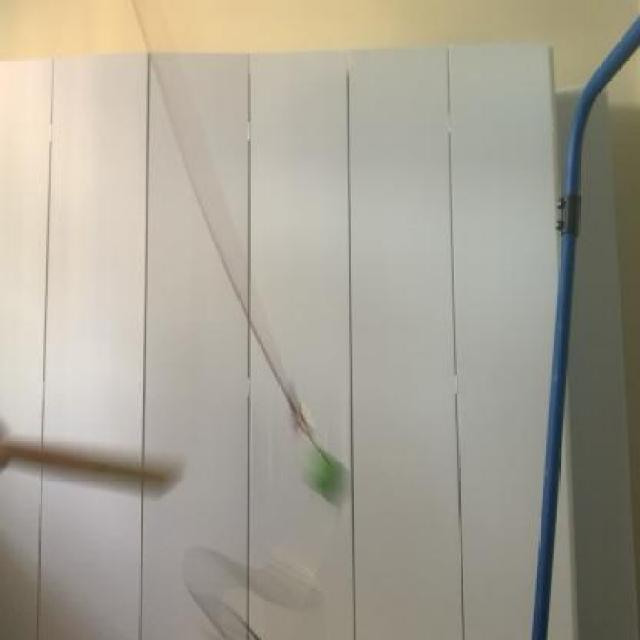baseball: (282, 439, 348, 507)
